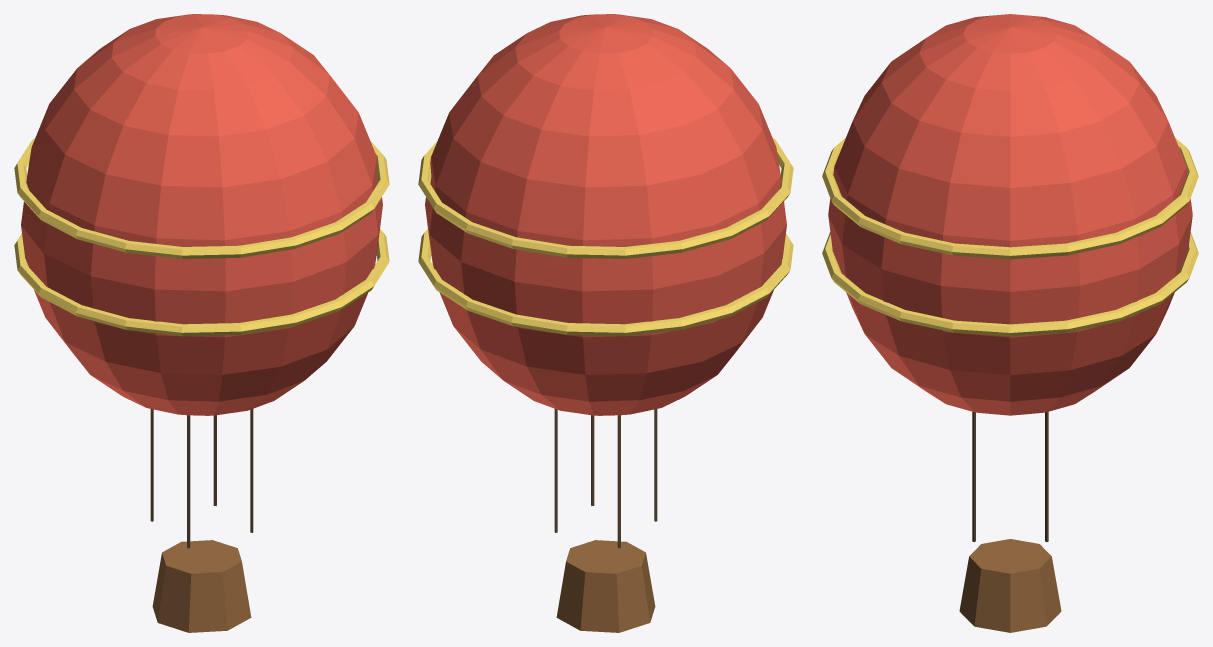
Rendered from balloon.glb.
The picture shows the model from 3 angles, left to right: view 1: azimuth 30°, elevation 25°; view 2: azimuth 150°, elevation 25°; view 3: azimuth 270°, elevation 25°; orthographic projection.
Visible parts, largest first — view 1: envelope, basket, band3.95, band3.25, rope-0.3-0.3; view 2: envelope, basket, band3.95, band3.25, rope-0.30.3; view 3: envelope, basket, band3.95, band3.25.
Part boxes in pixels (x1,y1,x2,y2): envelope: (21, 14, 382, 415); basket: (152, 540, 251, 632); band3.95: (14, 138, 389, 258); band3.25: (14, 229, 389, 336); rope-0.3-0.3: (187, 415, 190, 548); envelope: (425, 14, 786, 415); basket: (556, 540, 655, 632); band3.95: (418, 138, 793, 258); band3.25: (418, 229, 793, 336); rope-0.30.3: (617, 415, 620, 548); envelope: (828, 14, 1192, 415); basket: (959, 539, 1061, 632); band3.95: (822, 138, 1198, 259); band3.25: (822, 232, 1198, 336).
Bounding box in the file's own units: 3.1 × 5.3 × 3.1.
